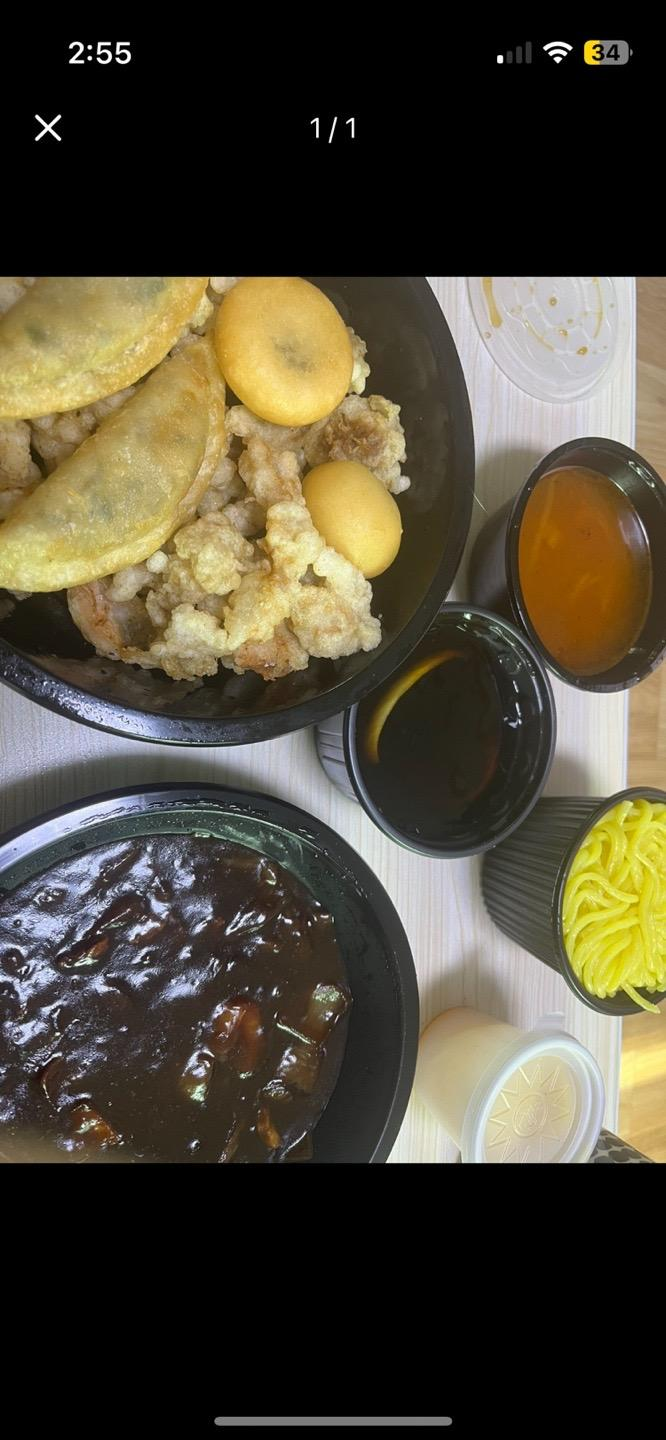Lunch Box: (0, 277, 474, 745), (0, 783, 419, 1163), (468, 276, 628, 403)
cup: (316, 603, 555, 857), (470, 438, 665, 691), (482, 787, 665, 1016), (415, 1007, 604, 1163)
